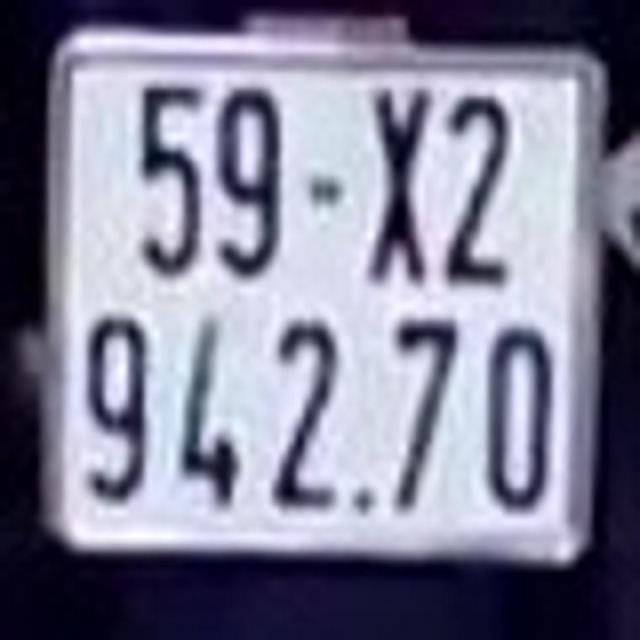0: (480, 316, 552, 514)
2: (268, 313, 338, 505), (446, 88, 510, 292)
4: (162, 306, 245, 512)
5: (135, 81, 204, 272)
7: (384, 307, 459, 512)
9: (215, 81, 284, 274), (80, 310, 148, 500)
X: (364, 80, 432, 287)
